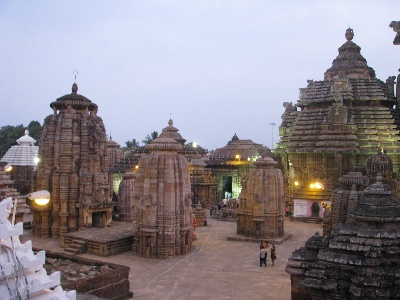amalaka: (39, 90, 104, 113), (135, 134, 186, 158), (246, 154, 285, 170)
gopuram: (29, 116, 119, 210), (124, 153, 206, 233)
